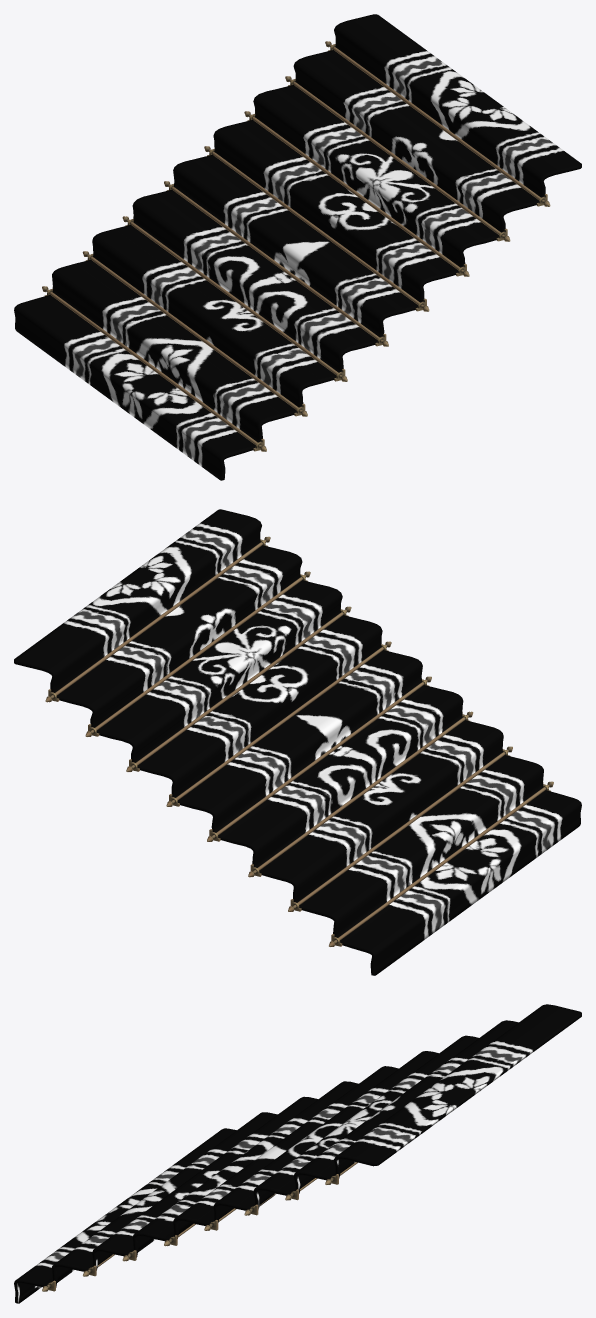
The model's file is SM_CarpetStairs_A.fbx.
The picture shows the model from 3 angles, top to bottom: view 1: azimuth 30°, elevation 25°; view 2: azimuth 150°, elevation 25°; view 3: azimuth 330°, elevation 25°; orthographic projection.
Parts seen in each view (by area): view 1: SM_CarpetStairs_A_LOD0; view 2: SM_CarpetStairs_A_LOD0; view 3: SM_CarpetStairs_A_LOD0.
Boxes of the visible parts, x1=… form: SM_CarpetStairs_A_LOD0: x1=14, y1=14, x2=581, y2=480; SM_CarpetStairs_A_LOD0: x1=14, y1=509, x2=581, y2=975; SM_CarpetStairs_A_LOD0: x1=14, y1=1004, x2=581, y2=1303.
Bounding box in the file's own units: 253 × 271 × 152.
